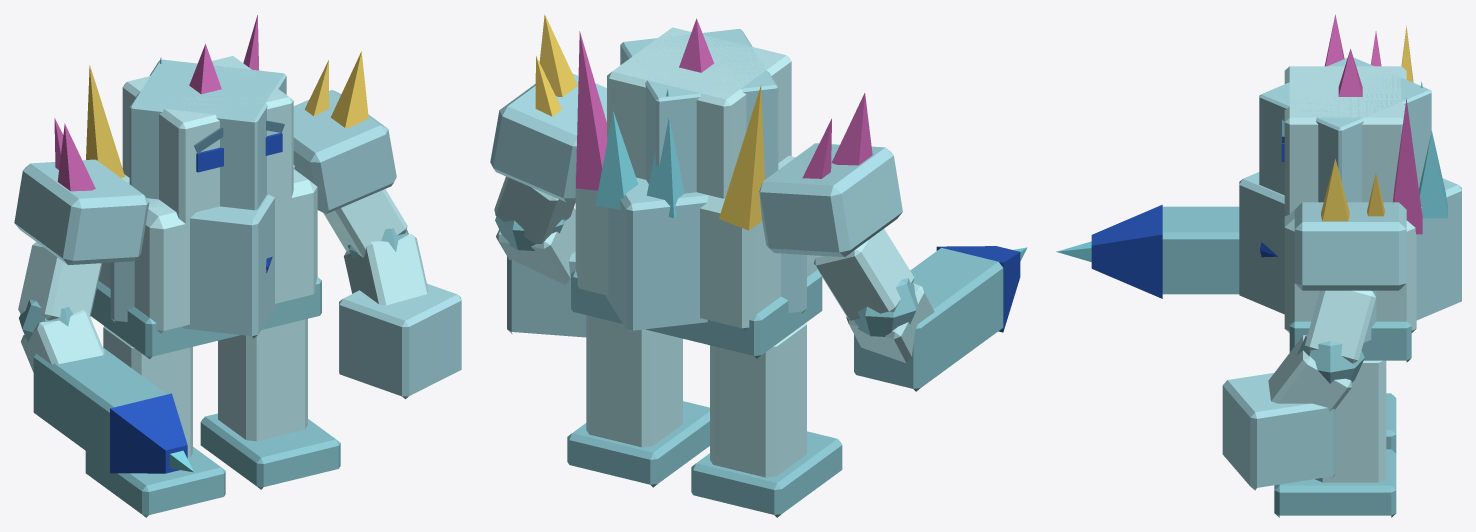
Rendered from r12_boss_prism_guardian.glb.
3 renders of one model, left to right at view 1: azimuth 30°, elevation 25°; view 2: azimuth 150°, elevation 25°; view 3: azimuth 270°, elevation 25°, orthographic. The views are drawn at different scales.
Visible parts, largest first — view 1: r12_boss_prism_guardian_mesh; view 2: r12_boss_prism_guardian_mesh; view 3: r12_boss_prism_guardian_mesh.
Boxes of the visible parts, <box> form: r12_boss_prism_guardian_mesh: <box>14,15,461,517</box>; r12_boss_prism_guardian_mesh: <box>490,14,1027,517</box>; r12_boss_prism_guardian_mesh: <box>1056,14,1461,517</box>.
Size of the model in its own units: 7.91 by 8 by 6.95.
Materials: 1 (1 with a texture image).
